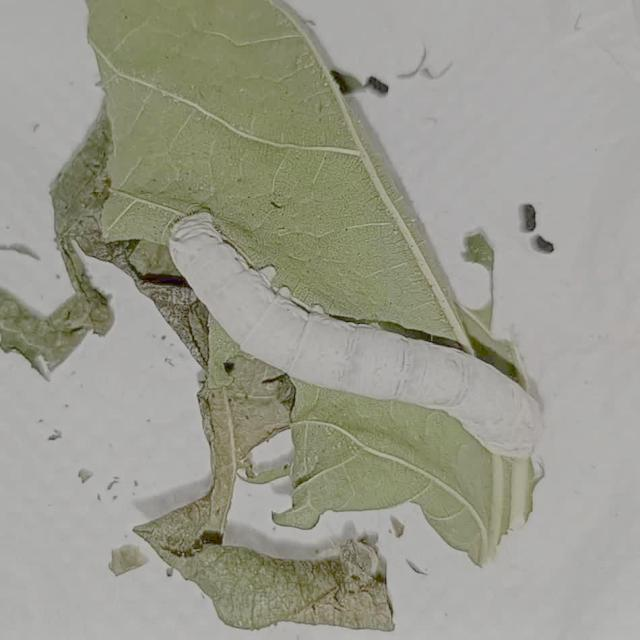Healthy: (164, 203, 555, 474)
